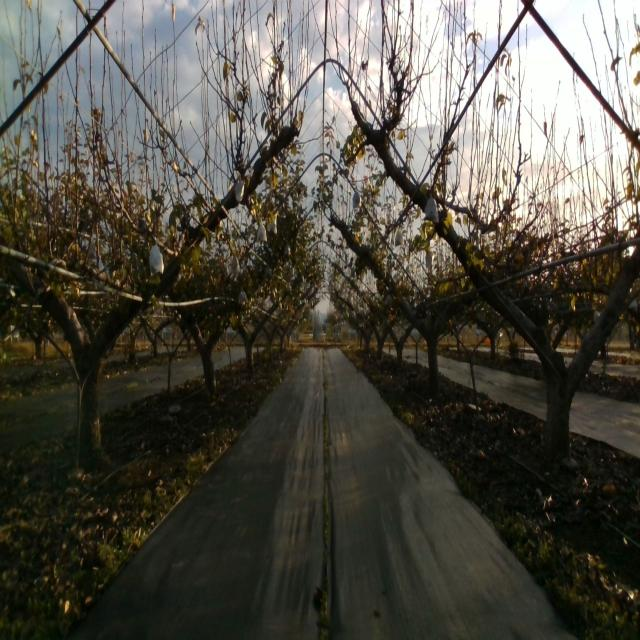pearbags: (149, 236, 164, 276), (422, 192, 439, 225), (235, 174, 245, 202), (256, 222, 268, 242)
